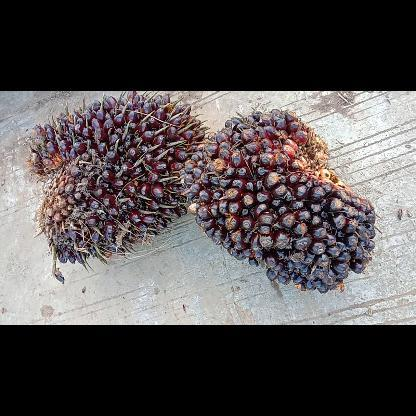TBS mentah: (184, 108, 376, 292), (27, 91, 209, 282)
